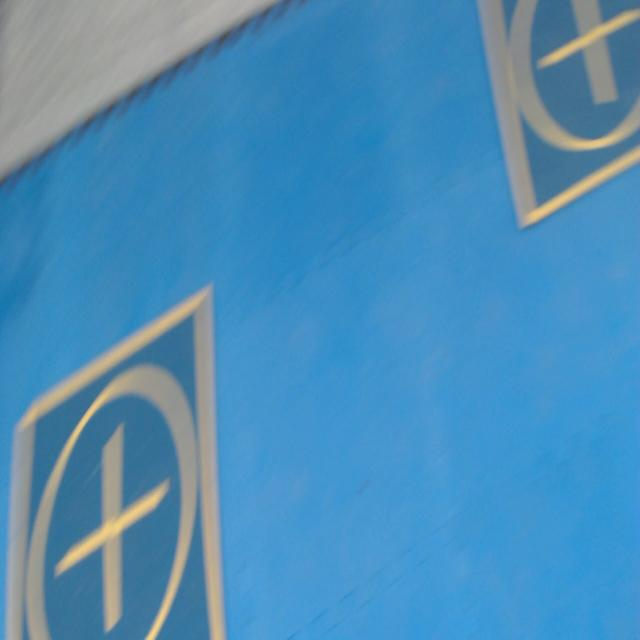base_pouso: (5, 278, 227, 639), (476, 0, 640, 232)
